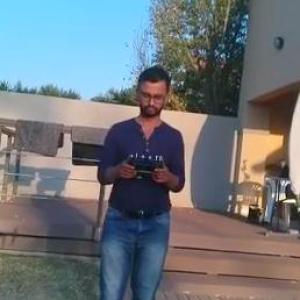follow: (88, 61, 192, 298)
